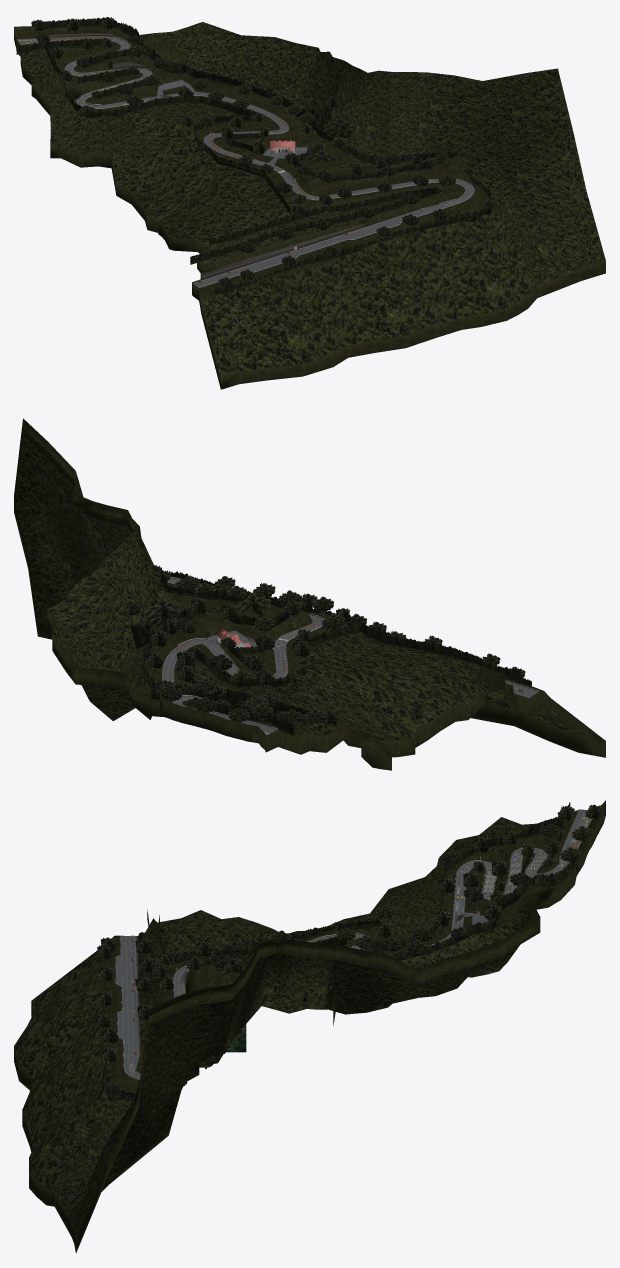
File: akina2.glb
The picture shows the model from 3 angles, top to bottom: view 1: azimuth 30°, elevation 25°; view 2: azimuth 150°, elevation 25°; view 3: azimuth 270°, elevation 25°; orthographic projection. The views are drawn at different scales.
Parts seen in each view (by area): view 1: akina2; view 2: akina2; view 3: akina2.
Part boxes in pixels (<box>): akina2: <box>14,17,605,389</box>; akina2: <box>14,418,605,770</box>; akina2: <box>14,800,605,1253</box>.
Bounding box in the file's own units: 413 × 186 × 418.
23 materials, 23 textured.
